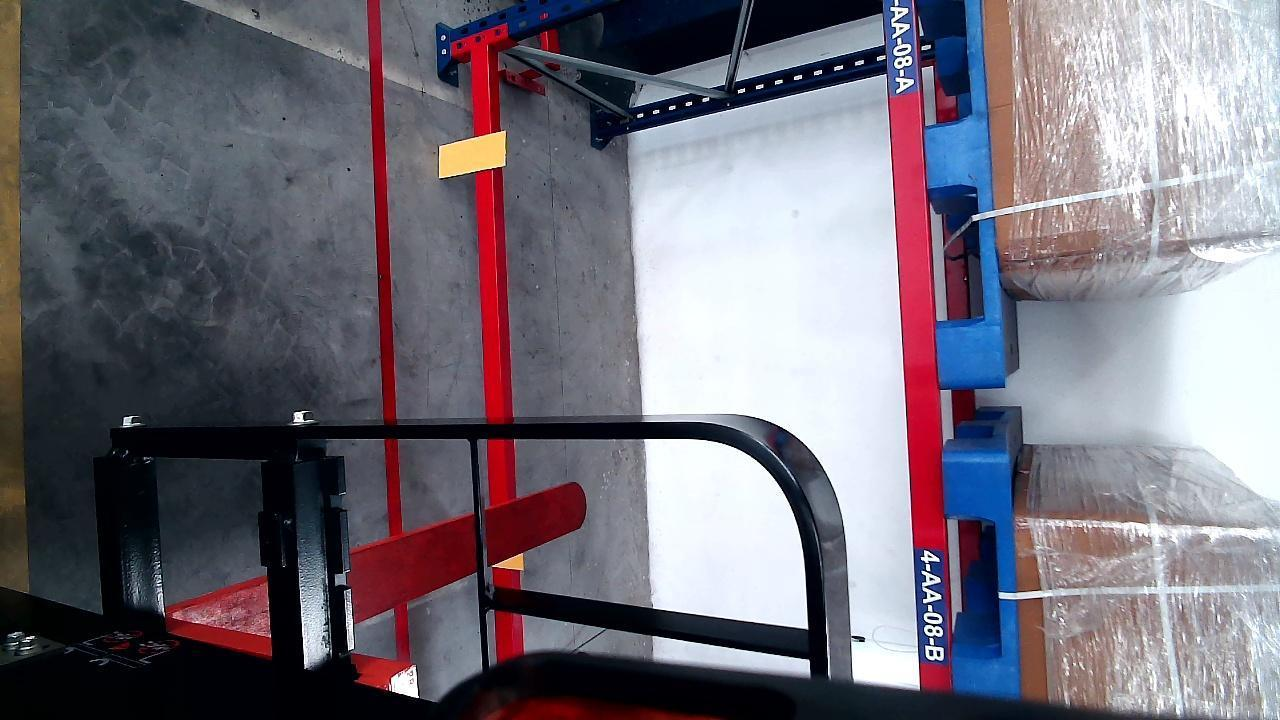h_rack: (885, 0, 949, 698), (470, 49, 524, 667)
orange_strip: (438, 132, 507, 177)
small_pallet: (946, 444, 1019, 695)
yellow_line: (0, 12, 29, 595)
